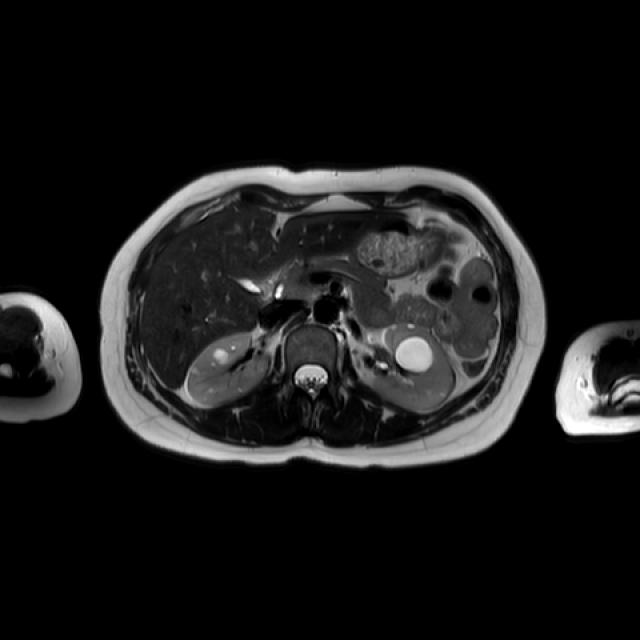sag: (184, 333, 273, 406)
sol: (368, 323, 455, 410)
